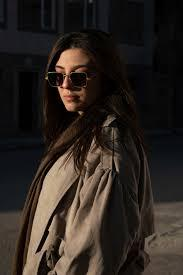sunglasses: (42, 68, 94, 91)
